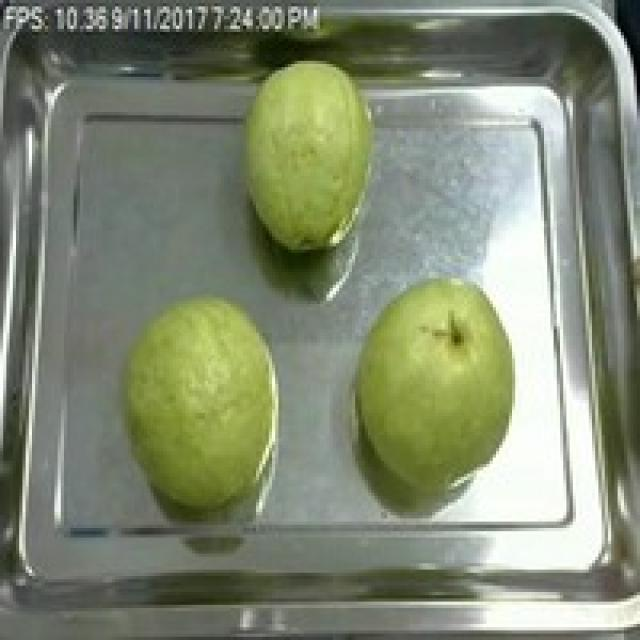Fruit: (339, 266, 528, 515), (105, 282, 298, 515), (230, 48, 390, 259)
